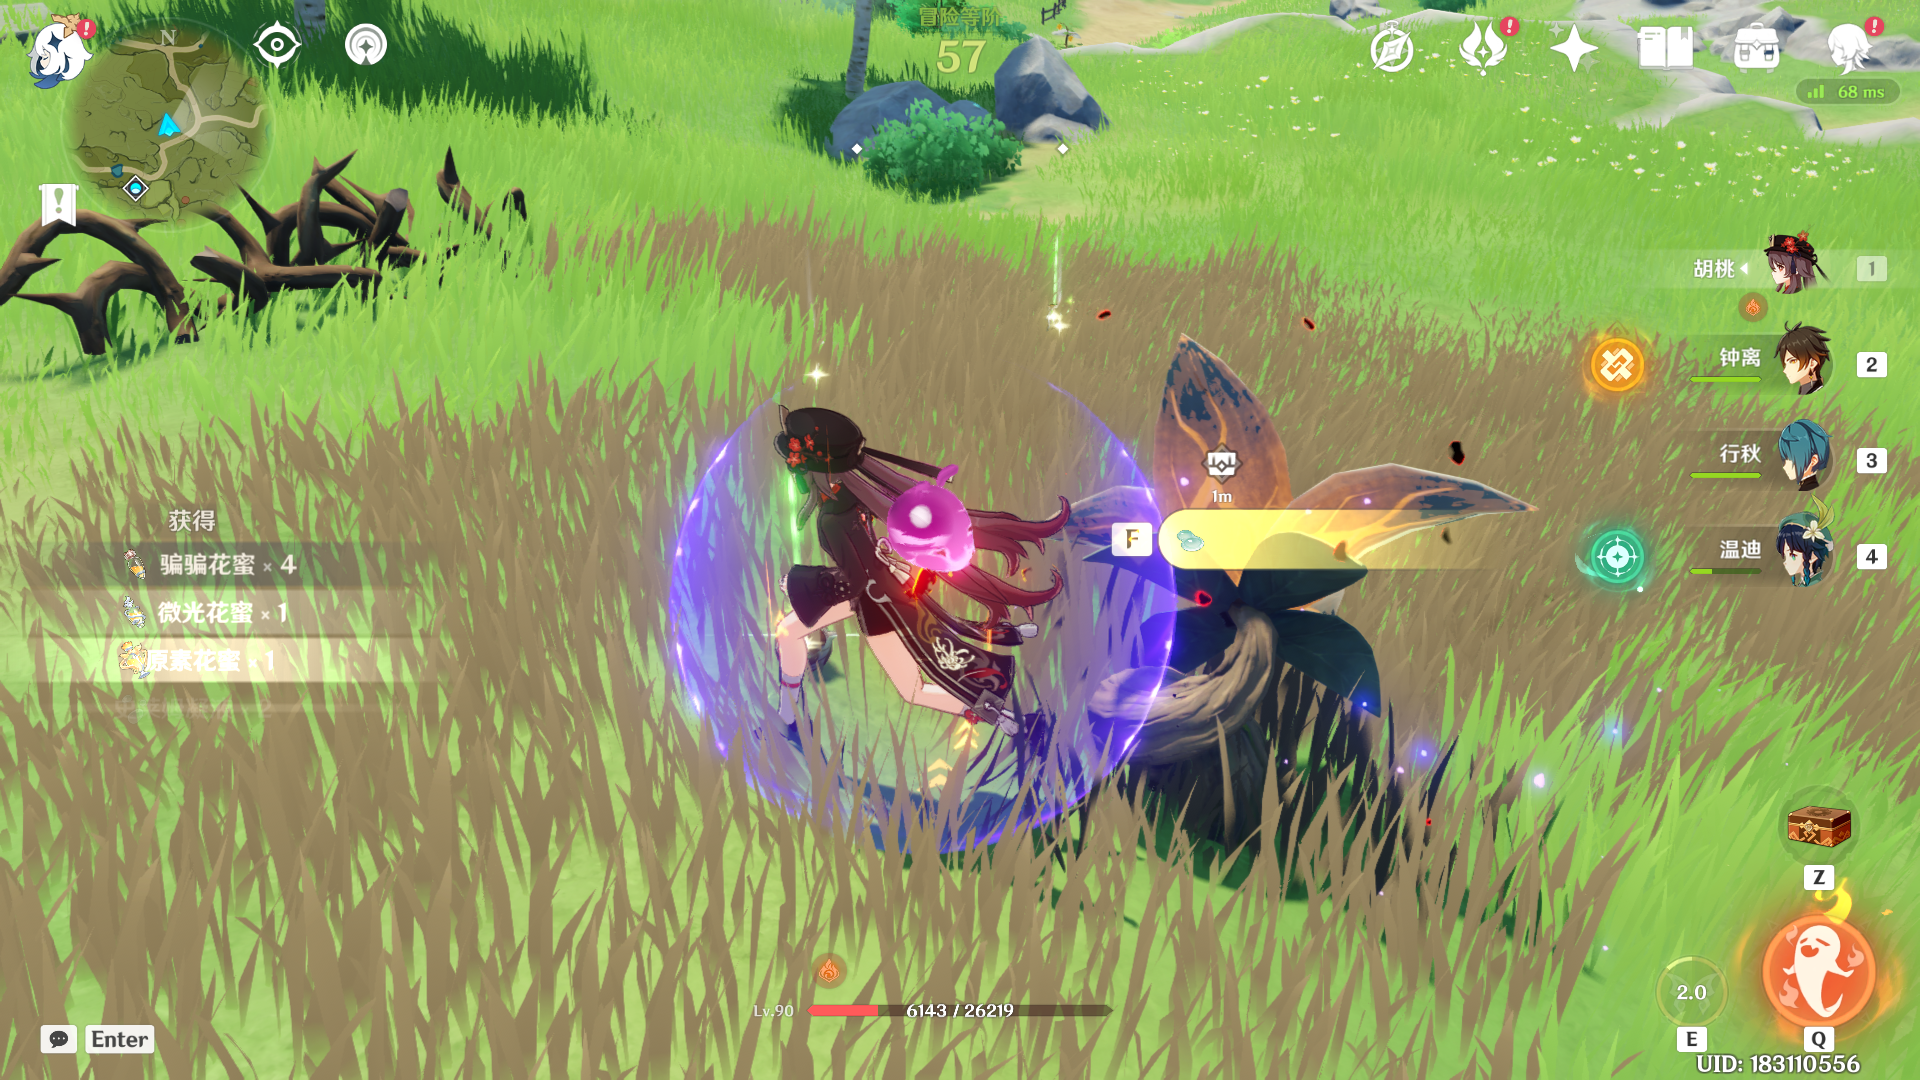character: (682, 371, 1062, 819)
